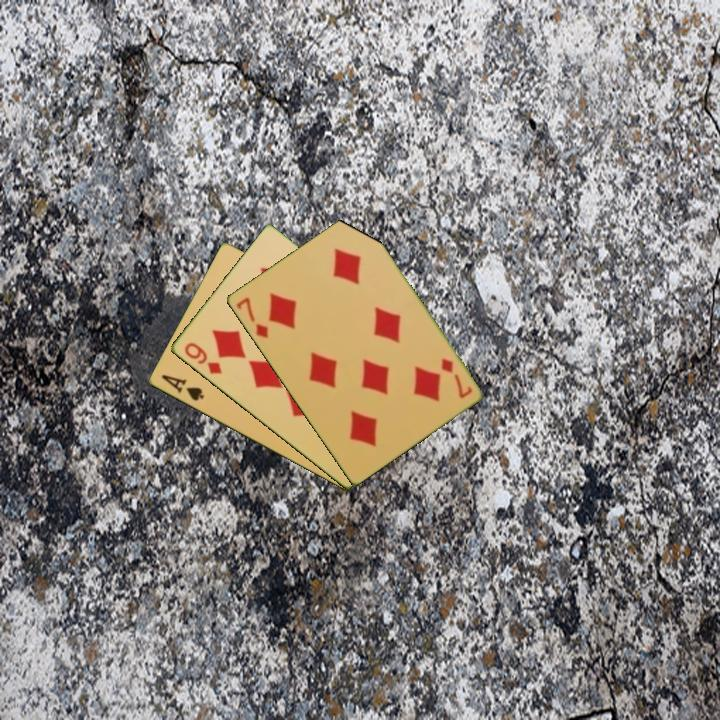7d: (232, 294, 271, 341), (437, 354, 475, 401)
9d: (180, 339, 225, 377)
As: (158, 371, 207, 404)
